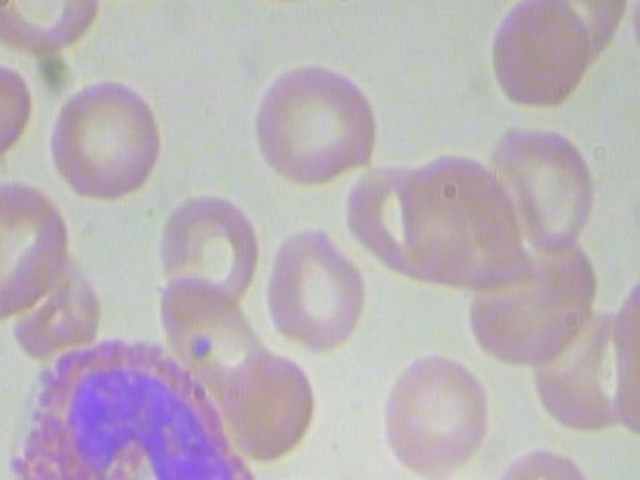RBC: (247, 55, 392, 187), (367, 344, 497, 480), (43, 71, 169, 208), (262, 214, 370, 358), (159, 182, 270, 319), (484, 0, 596, 120), (220, 343, 321, 465), (0, 178, 73, 329), (605, 276, 640, 443)
WBC: (0, 327, 259, 480)
